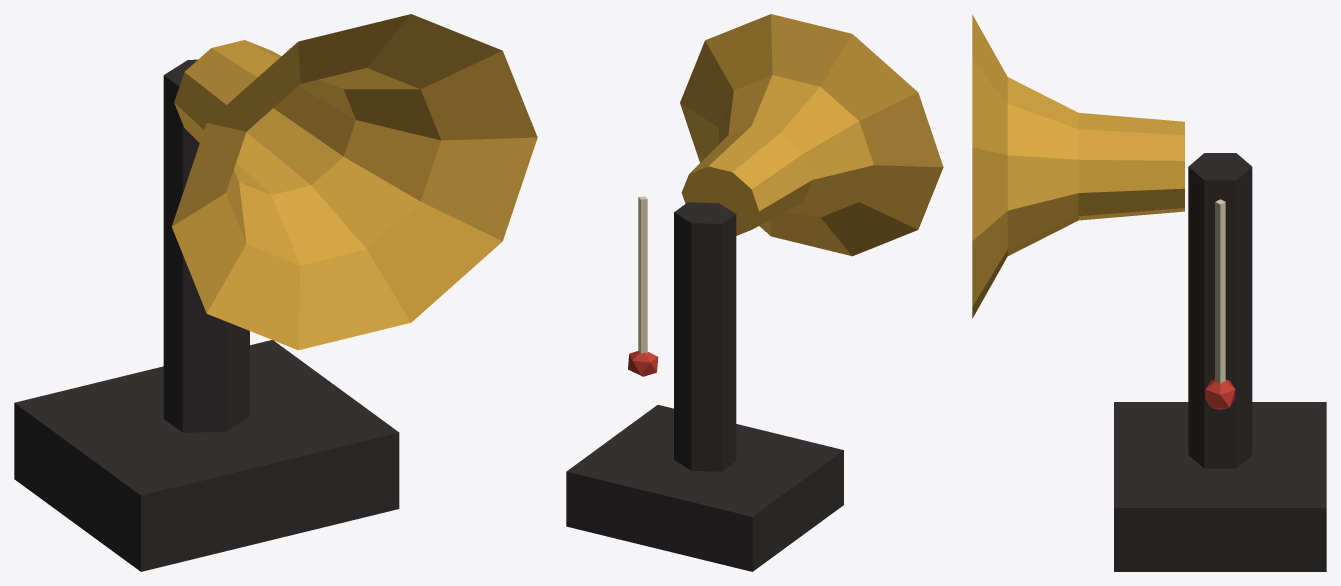
Rendered from TrainHorn.fbx.
3 views of the same model, side by side, from view 1: azimuth 30°, elevation 25°; view 2: azimuth 150°, elevation 25°; view 3: azimuth 270°, elevation 25° (orthographic). The views are drawn at different scales.
Visible parts, largest first — view 1: TrainHorn; view 2: TrainHorn; view 3: TrainHorn.
Boxes of the visible parts, x1=… form: TrainHorn: x1=14, y1=14, x2=537, y2=571; TrainHorn: x1=566, y1=14, x2=943, y2=571; TrainHorn: x1=972, y1=14, x2=1326, y2=571.
Size of the model in its own units: 2 by 3 by 2.
